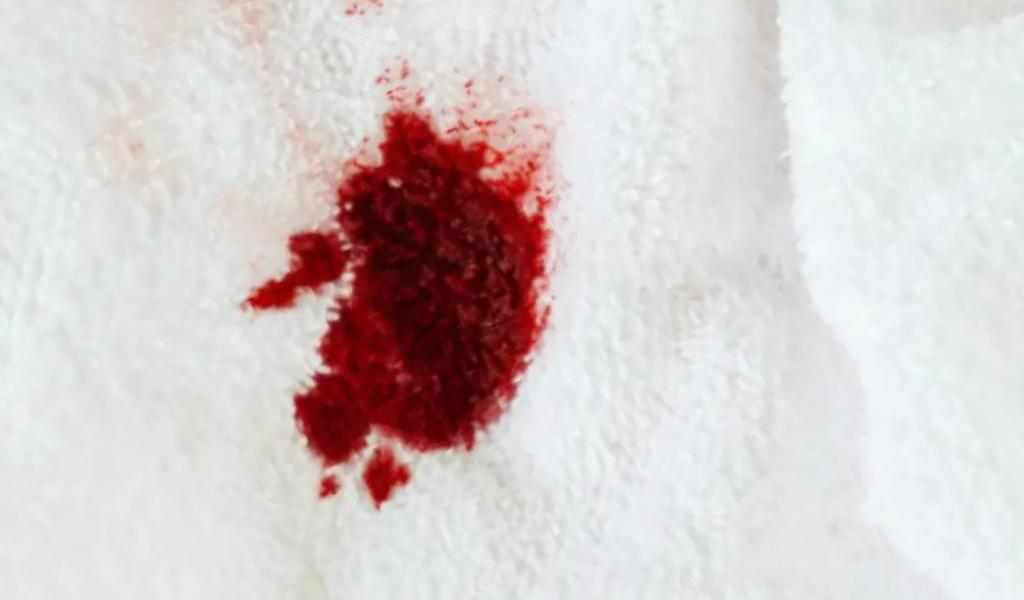stain: (233, 59, 558, 518)
